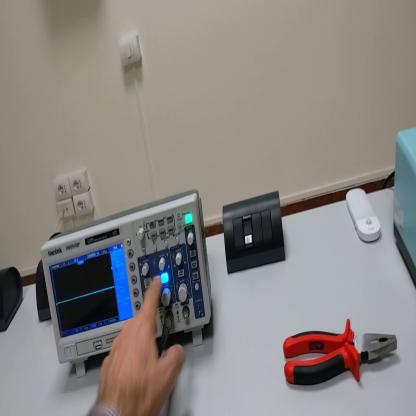hand: (96, 273, 184, 415)
oscilloscope: (42, 187, 214, 377)
pliers: (283, 318, 398, 388)
socket: (2, 261, 25, 332), (36, 260, 53, 322)
welder station: (393, 130, 416, 289)
